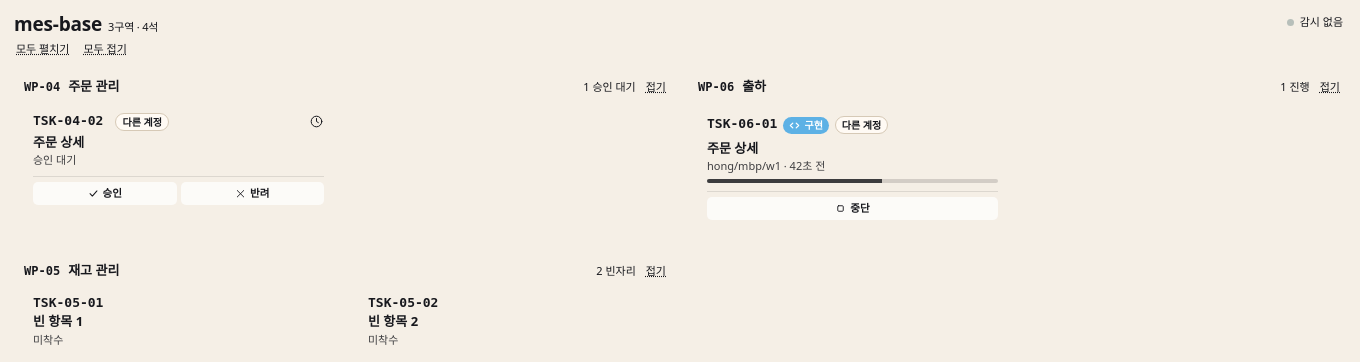
Scenario: FloorCard — 모든 구역은 기본 펼침이고, 접으면 아이콘이 된다(2026-09-19) › 접힌 구역 아이콘은 빈 구역 empty, 승인 대기 구역 wait, 진행 중 구역 work 표시가 붙는다
This screenshot has width=1360, height=362.
Click the button "모두 접기" at (105, 49), box [82, 40, 129, 57]
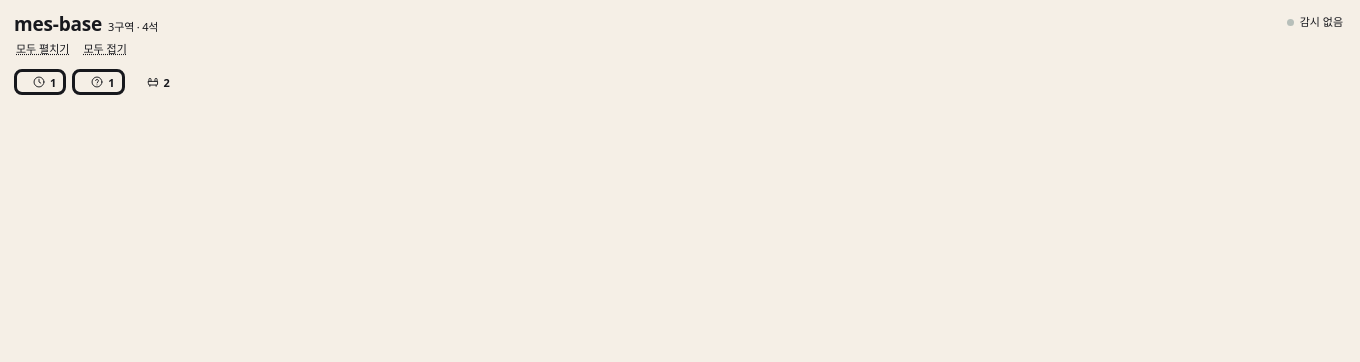
Click the 1st button "1" at (40, 82), box [14, 69, 66, 95]
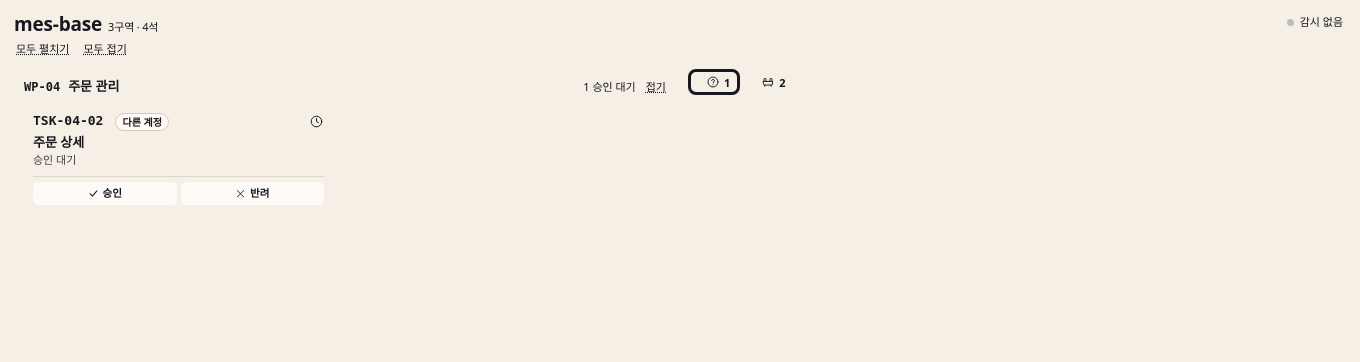
Expected: the button "TSK-04-02 다른 계정 주문 상세 승인 대기" is shown, [33, 112, 324, 168]
